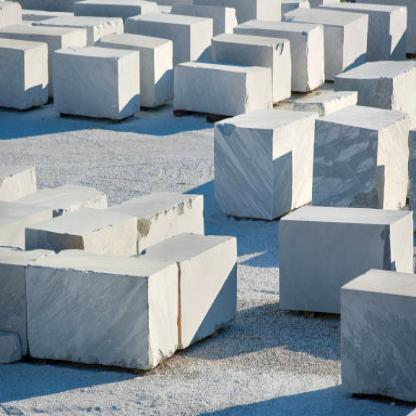Sedimentary_Limestone: (25, 254, 182, 374), (271, 204, 411, 326), (308, 87, 402, 220), (202, 115, 312, 218), (333, 267, 415, 389), (52, 40, 142, 125), (172, 53, 276, 121)
